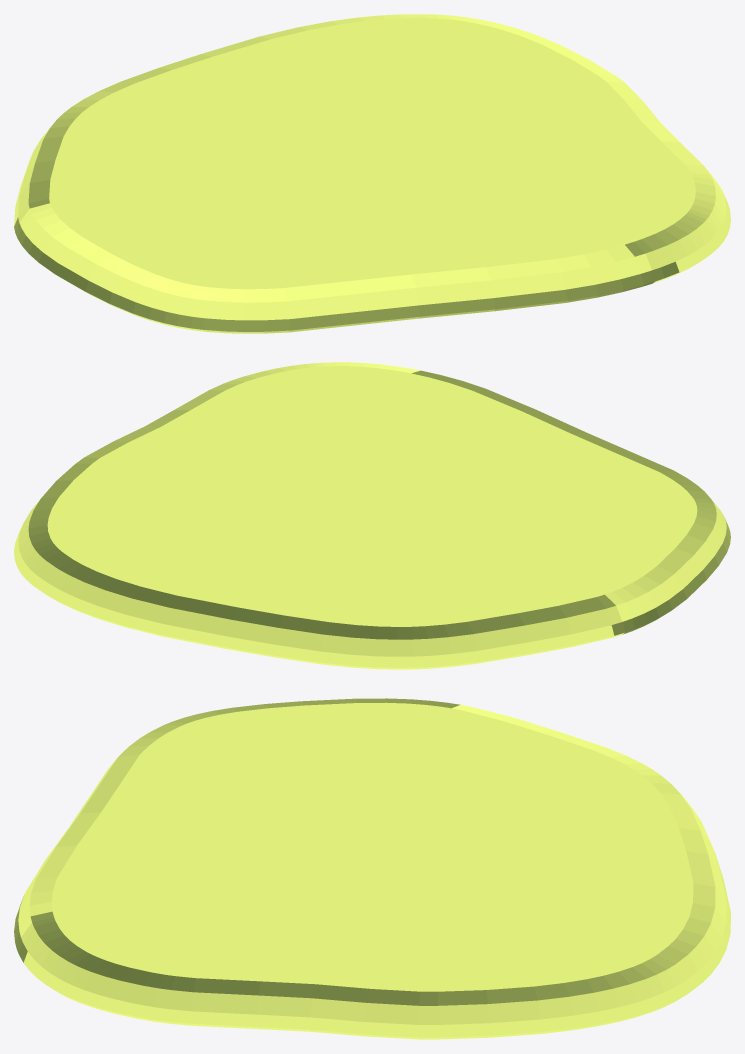
Rendered from GROUND.fbx.
3 renders of one model, top to bottom at view 1: azimuth 30°, elevation 25°; view 2: azimuth 150°, elevation 25°; view 3: azimuth 270°, elevation 25°, orthographic. The views are drawn at different scales.
Visible parts, largest first — view 1: Extrude; view 2: Extrude; view 3: Extrude.
Part boxes in pixels (bbox=[...]): Extrude: bbox=[14, 14, 730, 333]; Extrude: bbox=[14, 362, 730, 669]; Extrude: bbox=[14, 698, 730, 1039].
Bounding box in the file's own units: 30142 × 1654 × 28481.
